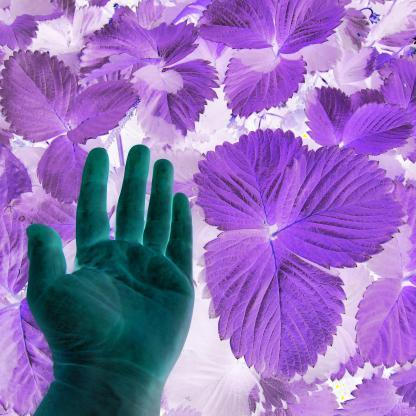Strawberry leaf: (194, 221, 350, 386), (275, 141, 407, 274), (191, 124, 320, 233), (0, 44, 81, 144), (131, 60, 228, 142), (220, 43, 310, 120), (82, 10, 202, 66), (66, 74, 138, 145), (38, 134, 101, 208)
